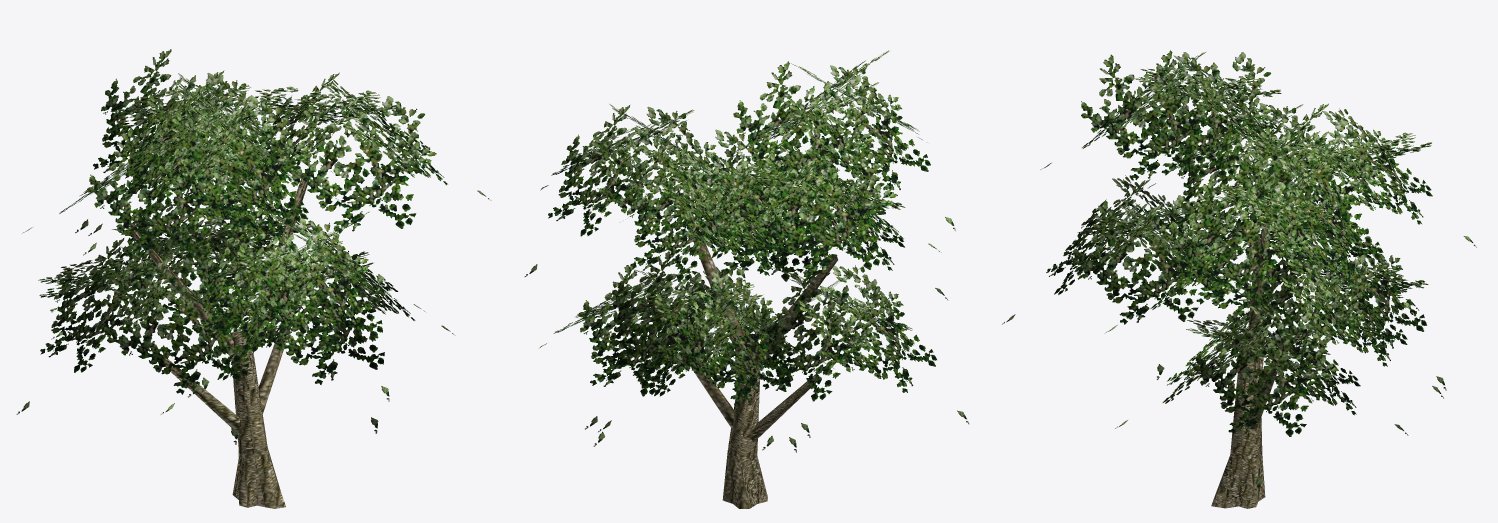
The model's file is oak-large-2.glb.
3 renders of one model, left to right at view 1: azimuth 30°, elevation 25°; view 2: azimuth 150°, elevation 25°; view 3: azimuth 270°, elevation 25°, orthographic. The views are drawn at different scales.
Visible parts, largest first — view 1: oak-large-2; view 2: oak-large-2; view 3: oak-large-2.
Part boxes in pixels (left/top/right/bottom): oak-large-2: left=16, top=49, right=491, bottom=508; oak-large-2: left=524, top=50, right=969, bottom=508; oak-large-2: left=1002, top=50, right=1476, bottom=508.
Size of the model in its own units: 18.9 by 17.33 by 18.06.
2 materials, 2 textured.
